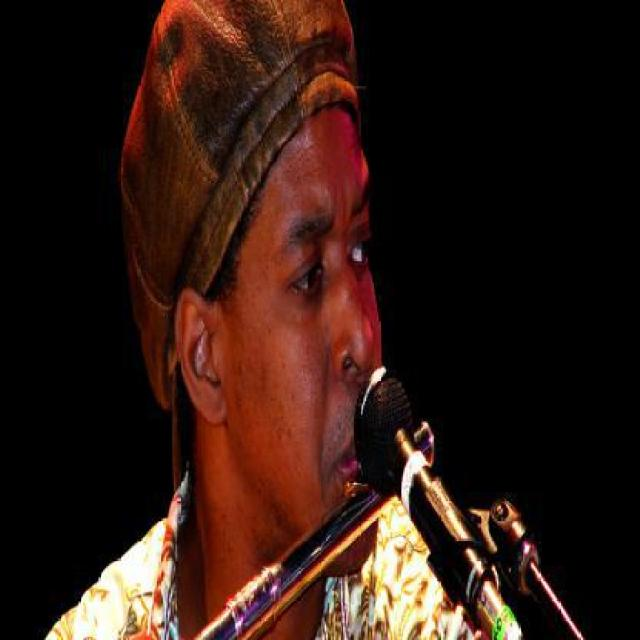Person: (37, 0, 526, 638)
